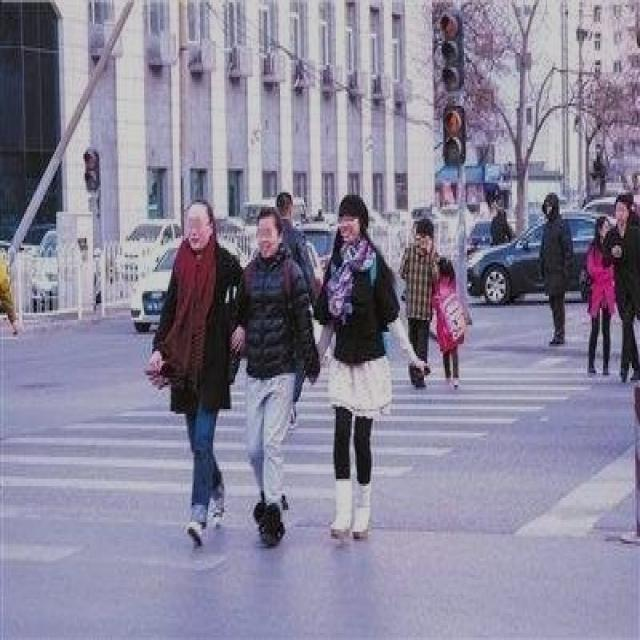non-fight: (146, 195, 242, 551), (234, 200, 323, 546), (314, 190, 400, 544), (397, 214, 451, 390), (531, 188, 576, 346)
